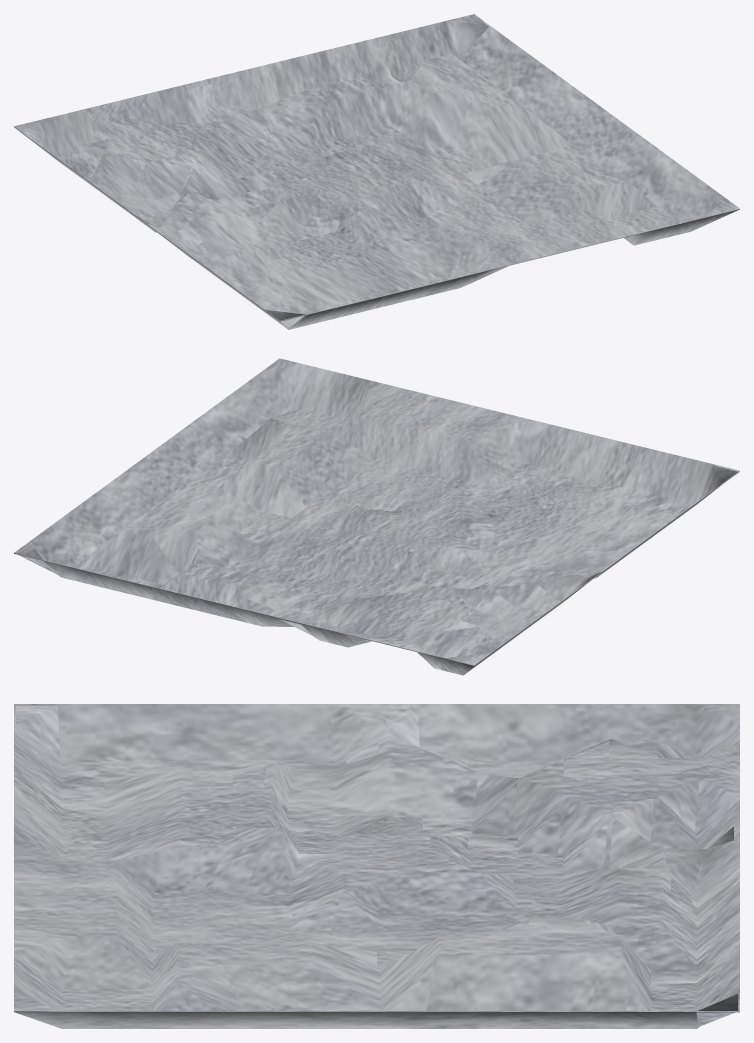
Rendered from snowland2.glb.
3 views of the same model, one above another, from view 1: azimuth 30°, elevation 25°; view 2: azimuth 150°, elevation 25°; view 3: azimuth 270°, elevation 25° (orthographic). The views are drawn at different scales.
Visible parts, largest first — view 1: Cube; view 2: Cube; view 3: Cube.
Part boxes in pixels (bbox=[...]): Cube: bbox=[14, 14, 739, 329]; Cube: bbox=[14, 358, 739, 675]; Cube: bbox=[14, 704, 739, 1028].
Bounding box in the file's own units: 183 × 13.9 × 183.
1 material, 1 textured.
